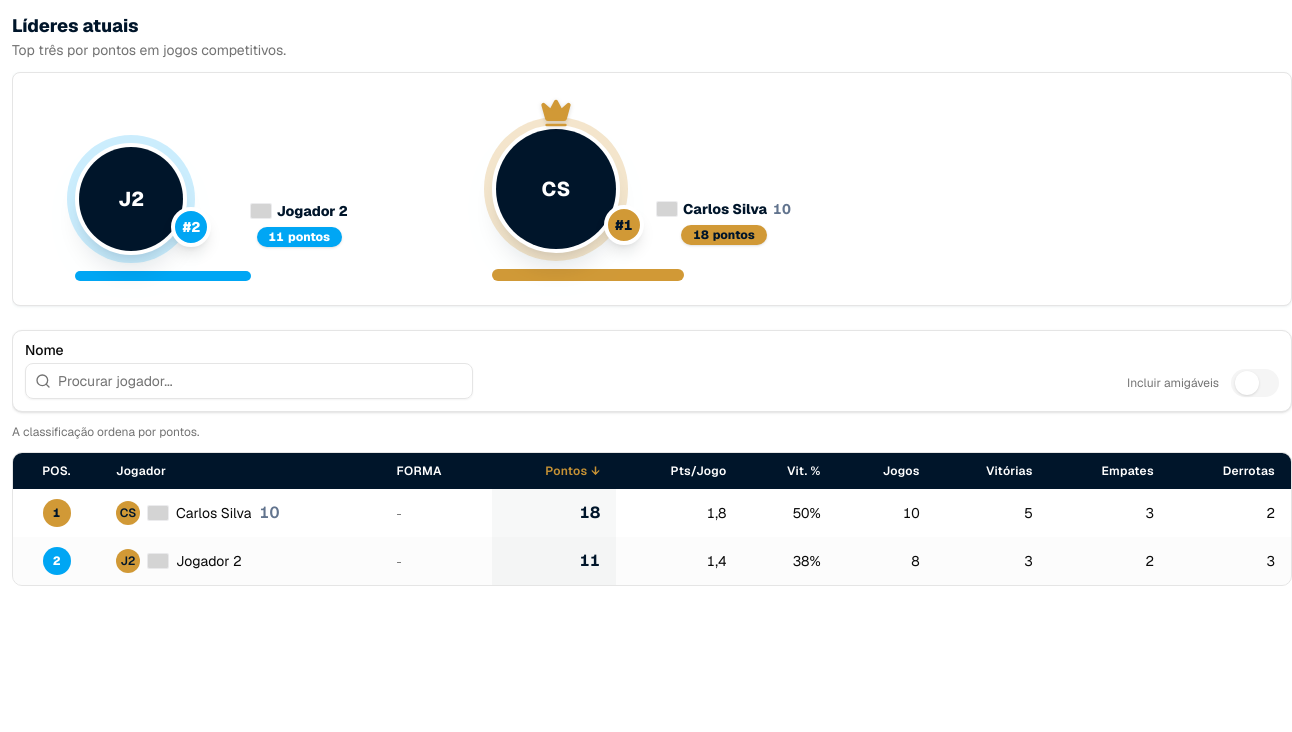
Test: StatsTable › uses all-match totals when friendly toggle is on
Step 1. Click the switch named "Incluir amigáveis" → (1255, 383), box [1231,369,1279,397]
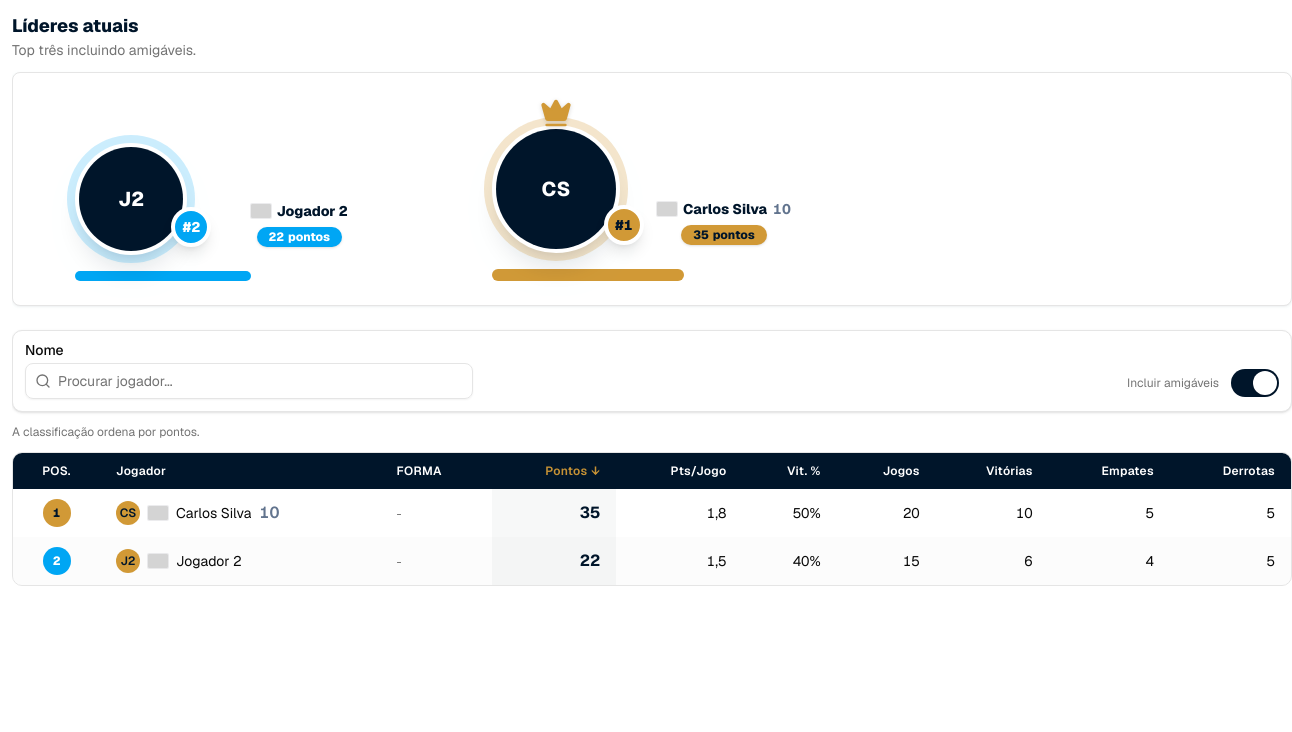
Expected: the row "Carlos Silva" is shown, [13,489,1291,537]
Result: the text "Top três incluindo amigáveis." is shown at [12,40,196,60]
Result: the cell "20" is shown at [837,489,936,537]
